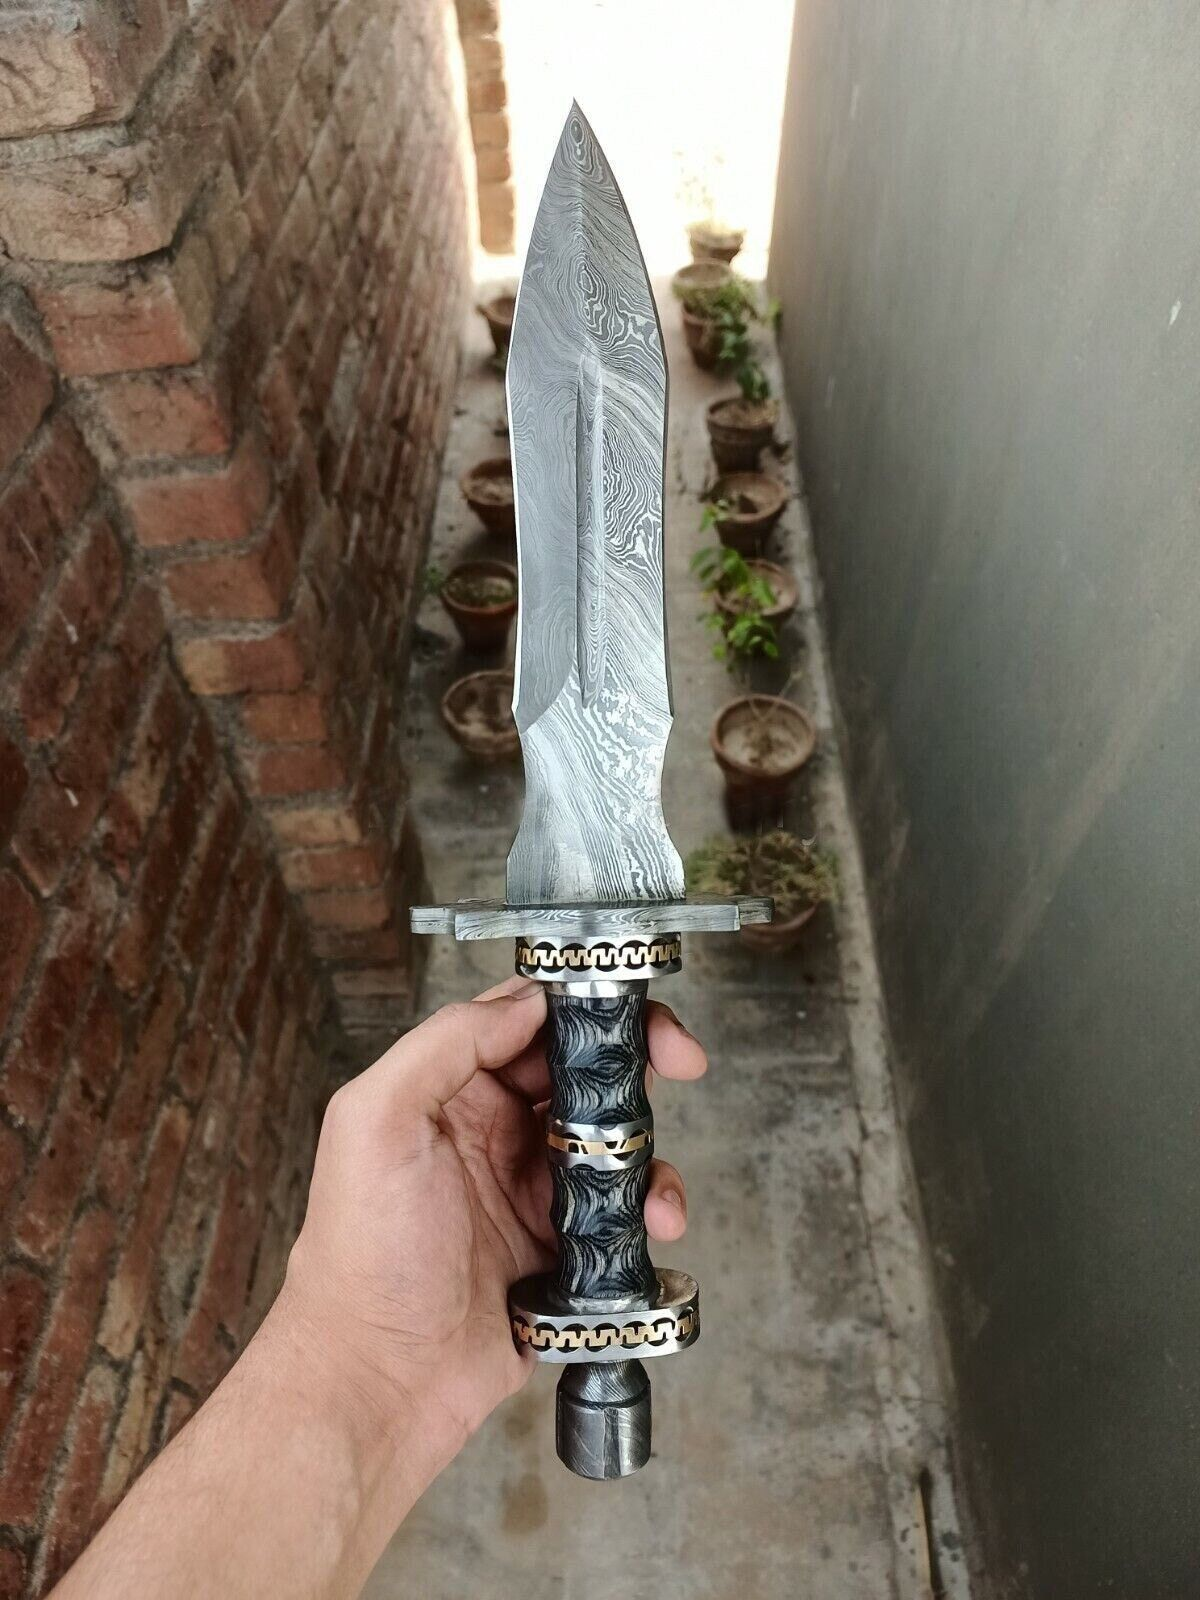knife: (393, 84, 754, 1497)
